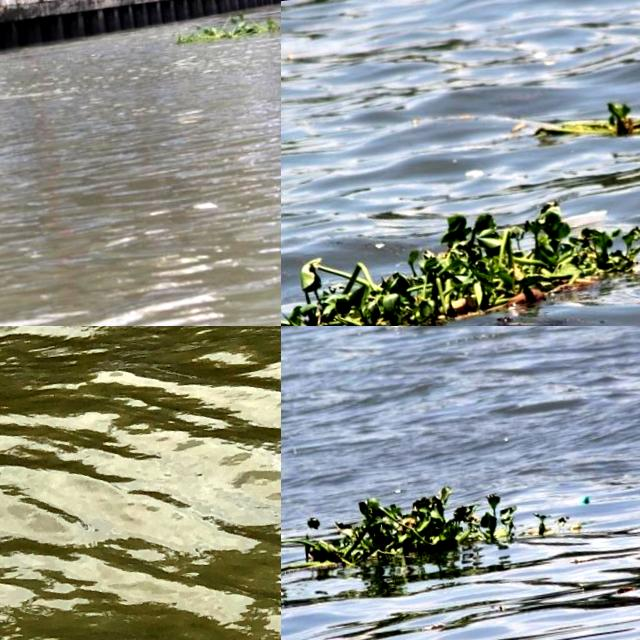water-hyacinth: (282, 186, 640, 327), (282, 469, 533, 590), (530, 89, 640, 150), (163, 1, 282, 52)
